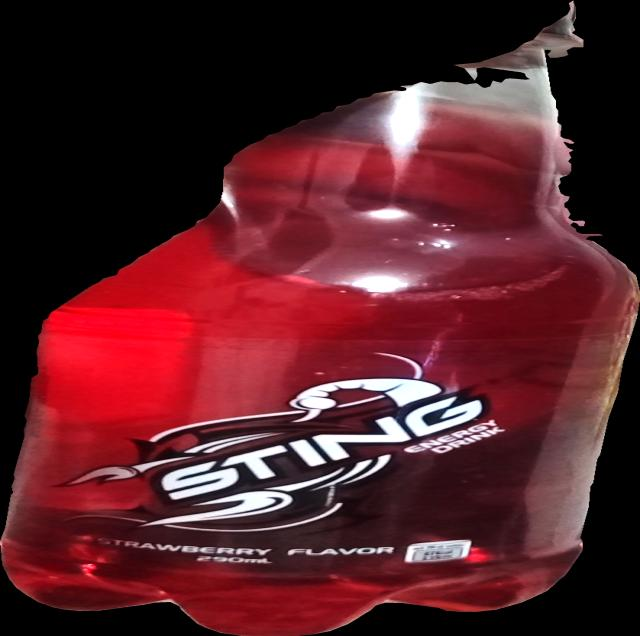sting: (0, 1, 640, 636)
